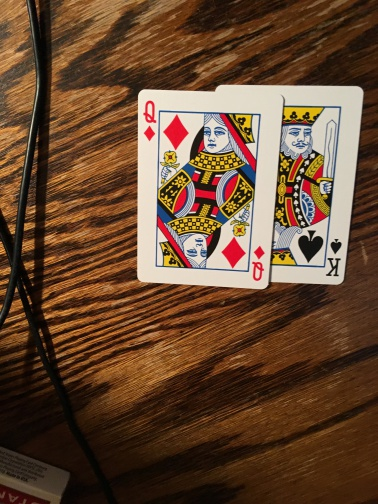king: (268, 86, 364, 286)
queen: (138, 91, 282, 288)
